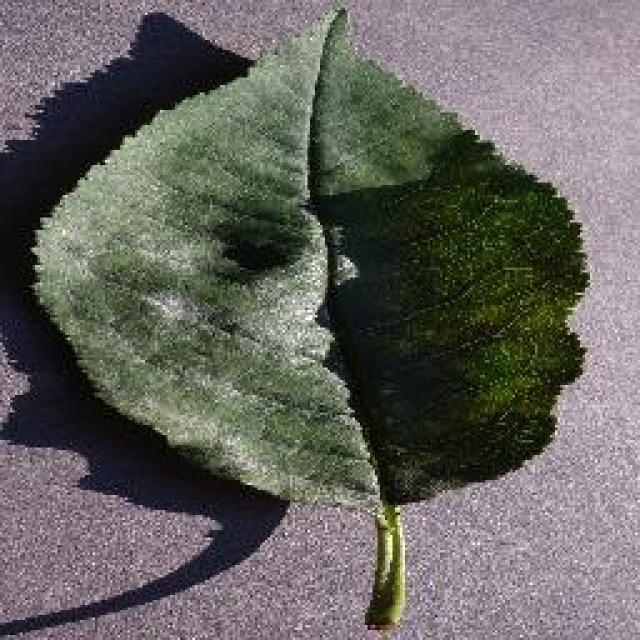Cherry___Powdery_mildew: (7, 0, 605, 638)
